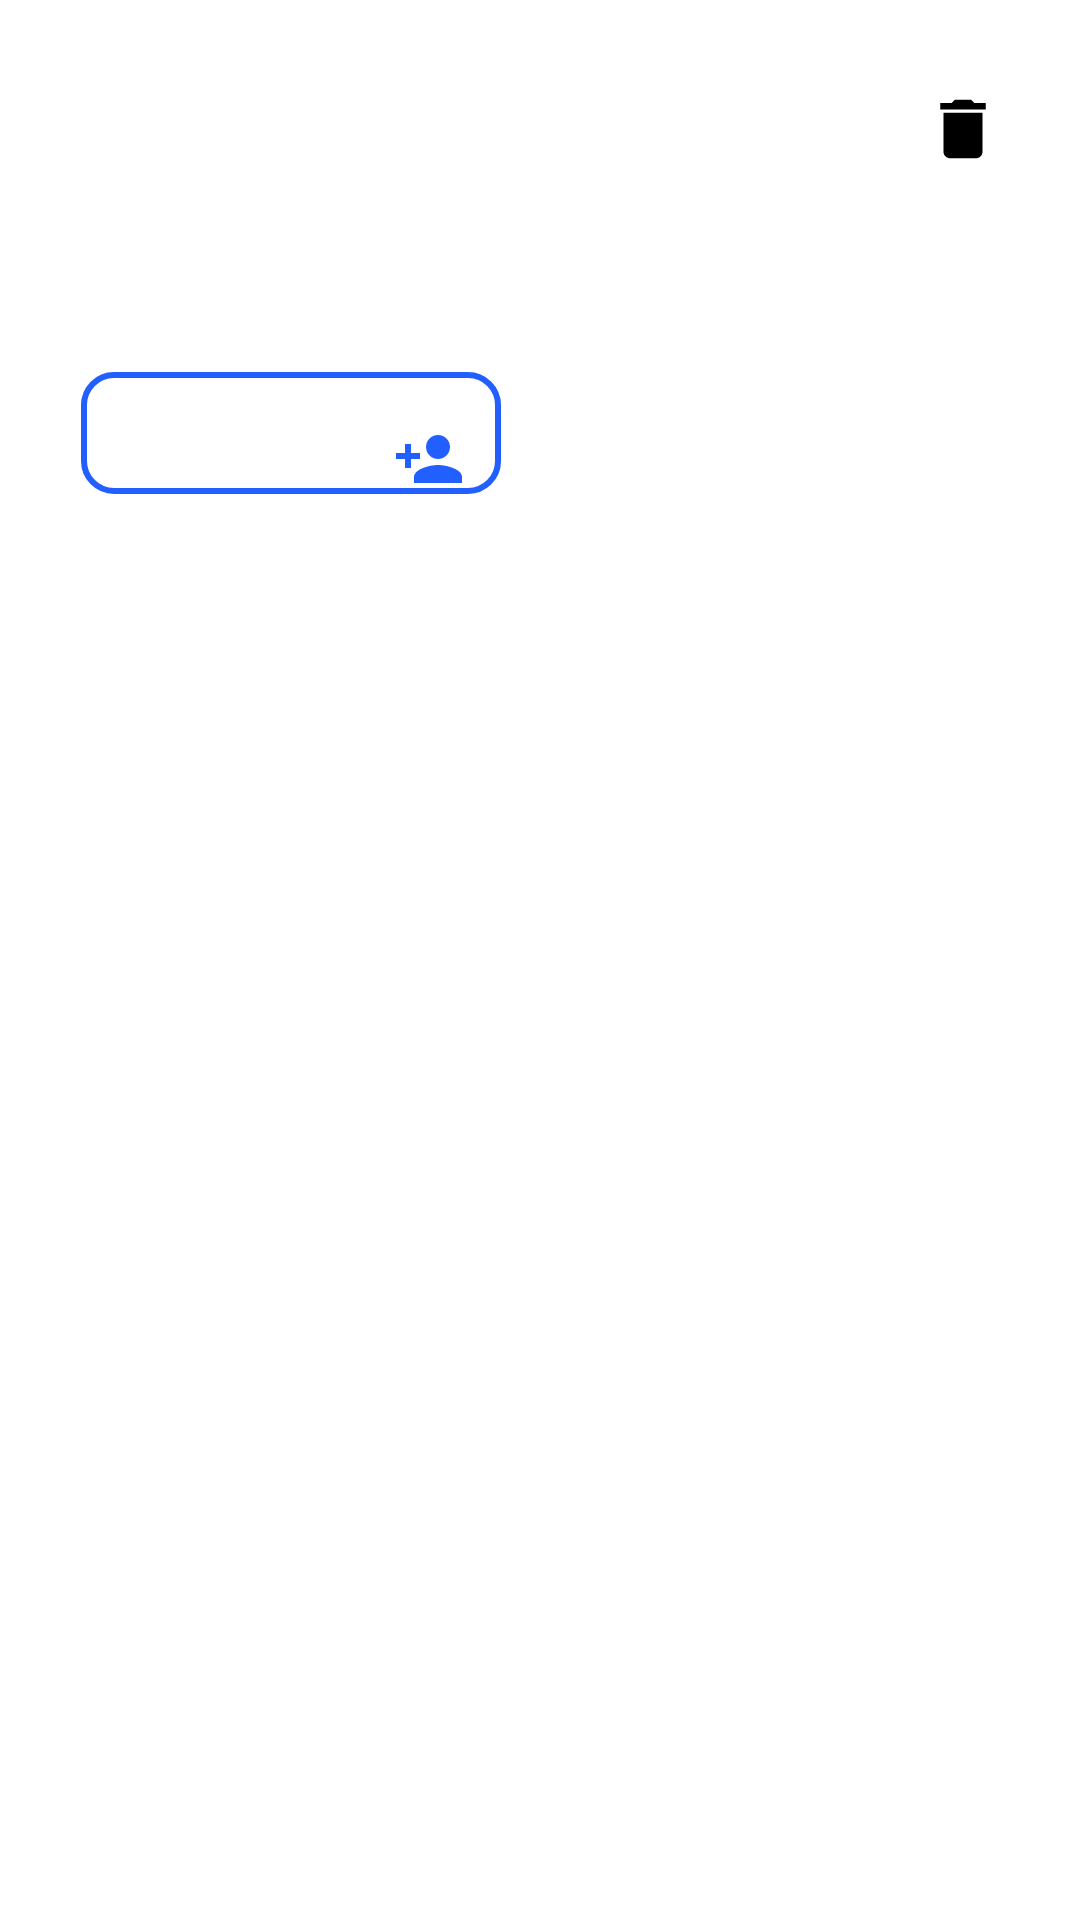

Icons on this 1080×1920 Android screen, each with its box as (x1, y1, x2, y2):
delet: (940, 99, 986, 159)
